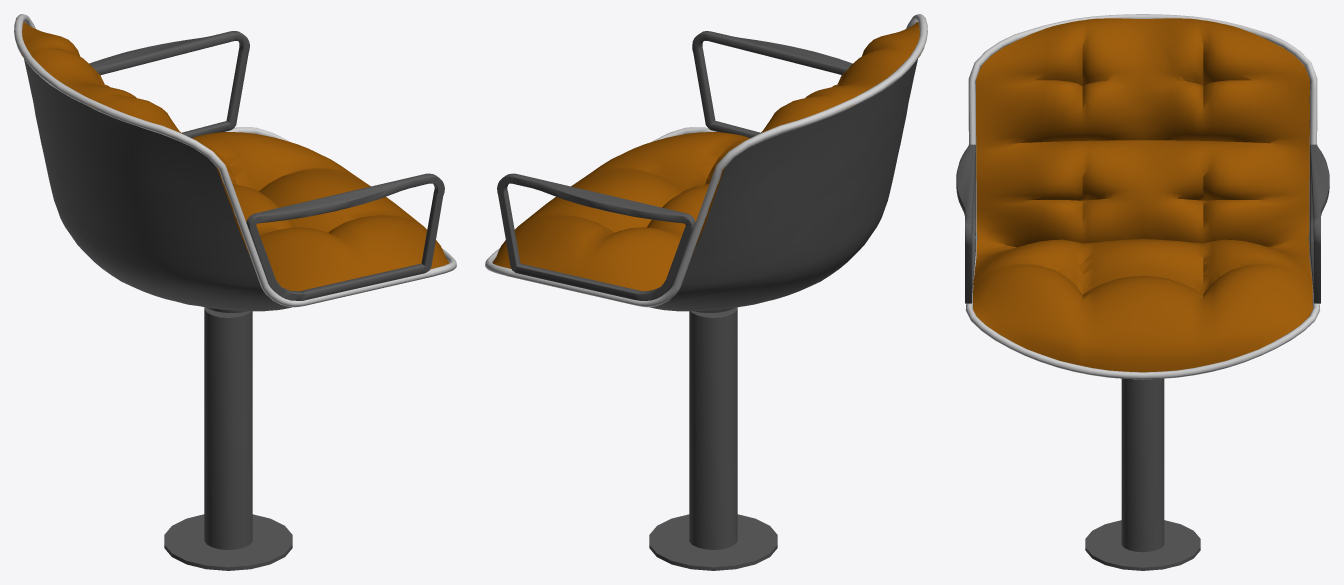
The model's file is American Easy Chair.fbx.
The picture shows the model from 3 angles, left to right: view 1: azimuth 30°, elevation 25°; view 2: azimuth 150°, elevation 25°; view 3: azimuth 270°, elevation 25°; orthographic projection. The views are drawn at different scales.
Visible parts, largest first — view 1: Group_3, Group, Furn_Knoll_Pollock_Jury_Arm_Chair_Furniture_Main, Group_5, Group_2; view 2: Group_3, Group, Furn_Knoll_Pollock_Jury_Arm_Chair_Furniture_Main, Group_5, Group_2; view 3: Group, Furn_Knoll_Pollock_Jury_Arm_Chair_Furniture_Main, Group_2, Group_5.
Boxes of the visible parts, left/top/right/bottom form: Group_3: left=24, top=22, right=291, bottom=311; Group: left=21, top=22, right=448, bottom=291; Furn_Knoll_Pollock_Jury_Arm_Chair_Furniture_Main: left=164, top=307, right=292, bottom=570; Group_5: left=89, top=31, right=444, bottom=300; Group_2: left=14, top=14, right=456, bottom=307; Group_3: left=650, top=22, right=917, bottom=311; Group: left=493, top=22, right=920, bottom=291; Furn_Knoll_Pollock_Jury_Arm_Chair_Furniture_Main: left=649, top=307, right=777, bottom=570; Group_5: left=497, top=31, right=852, bottom=300; Group_2: left=485, top=14, right=927, bottom=307; Group: left=973, top=18, right=1312, bottom=372; Furn_Knoll_Pollock_Jury_Arm_Chair_Furniture_Main: left=1085, top=378, right=1200, bottom=570; Group_2: left=966, top=14, right=1319, bottom=379; Group_5: left=956, top=144, right=1329, bottom=303.
Bounding box in the file's own units: 643 × 875 × 649.
